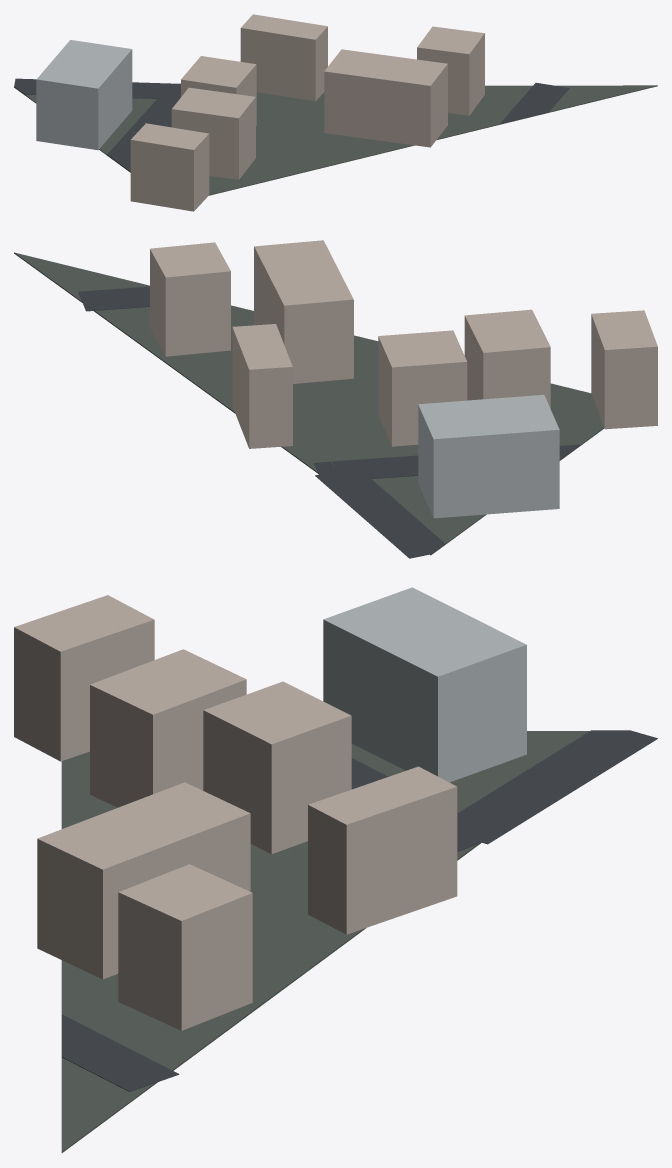
File: tile_004_012.glb
The picture shows the model from 3 angles, top to bottom: view 1: azimuth 30°, elevation 25°; view 2: azimuth 150°, elevation 25°; view 3: azimuth 270°, elevation 25°; orthographic projection. The views are drawn at different scales.
Visible parts, largest first — view 1: tile_004_012_buildings_residential, tile_004_012_ground, tile_004_012_buildings_neutral, tile_004_012_roads; view 2: tile_004_012_buildings_residential, tile_004_012_ground, tile_004_012_buildings_neutral, tile_004_012_roads; view 3: tile_004_012_buildings_residential, tile_004_012_buildings_neutral, tile_004_012_ground, tile_004_012_roads.
Part boxes in pixels (bbox=[...]): tile_004_012_buildings_residential: bbox=[130, 14, 484, 211]; tile_004_012_ground: bbox=[14, 85, 657, 195]; tile_004_012_buildings_neutral: bbox=[36, 40, 132, 150]; tile_004_012_roads: bbox=[14, 78, 569, 171]; tile_004_012_buildings_residential: bbox=[150, 240, 657, 448]; tile_004_012_ground: bbox=[14, 252, 604, 555]; tile_004_012_buildings_neutral: bbox=[418, 394, 559, 518]; tile_004_012_roads: bbox=[78, 286, 580, 558]; tile_004_012_buildings_residential: bbox=[14, 595, 457, 1030]; tile_004_012_buildings_neutral: bbox=[323, 587, 526, 782]; tile_004_012_ground: bbox=[61, 731, 589, 1152]; tile_004_012_roads: bbox=[61, 730, 657, 1091].
Bounding box in the file's own units: 107 × 12.16 × 63.76.
